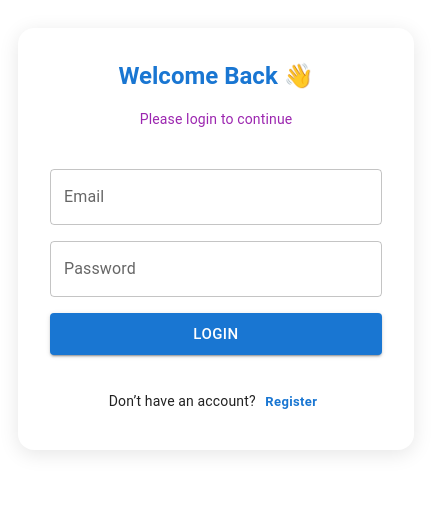
Test: LoginComponent › shows error message on login failure
Type "wrong@example.com" into the field labelled "Email".
click(216, 196); type("wrong@example.com")  # box 50,168 -> 382,224
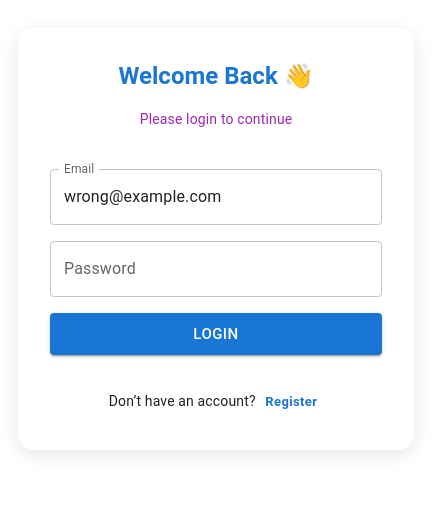
Type "wrongpass" into the password field labelled "Password".
click(216, 268); type("wrongpass")  # box 50,240 -> 382,296
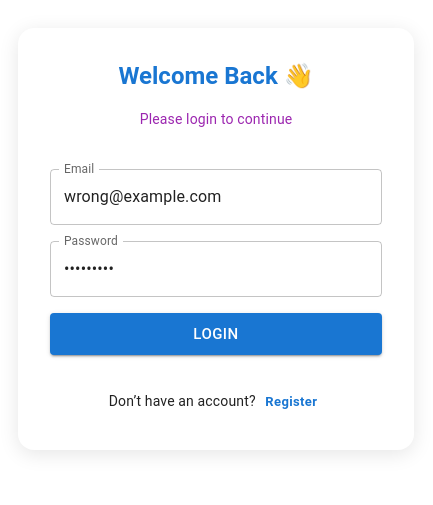
Click the button "Login".
click(216, 334)  # box 50,312 -> 382,355
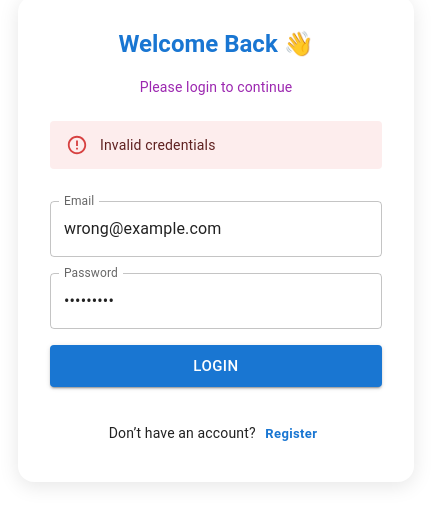
Now the text "Invalid credentials" is shown, box 100,136 -> 216,152
